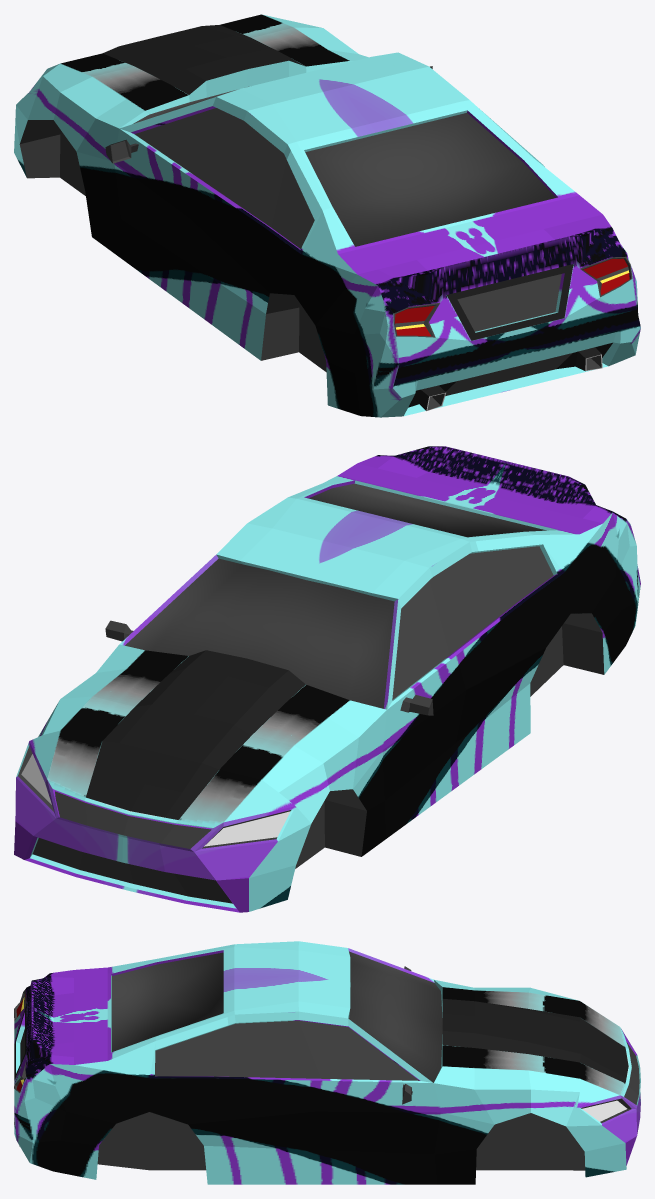
Rendered from car 1.fbx.
3 views of the same model, one above another, from view 1: azimuth 30°, elevation 25°; view 2: azimuth 150°, elevation 25°; view 3: azimuth 270°, elevation 25° (orthographic). The views are drawn at different scales.
Parts seen in each view (by area): view 1: car; view 2: car; view 3: car.
Part boxes in pixels (left/top/right/bottom): car: left=14, top=14, right=640, bottom=417; car: left=14, top=446, right=640, bottom=912; car: left=14, top=941, right=640, bottom=1184.
Bounding box in the file's own units: 2.05 × 1.2 × 4.35.
8 materials, 1 textured.
